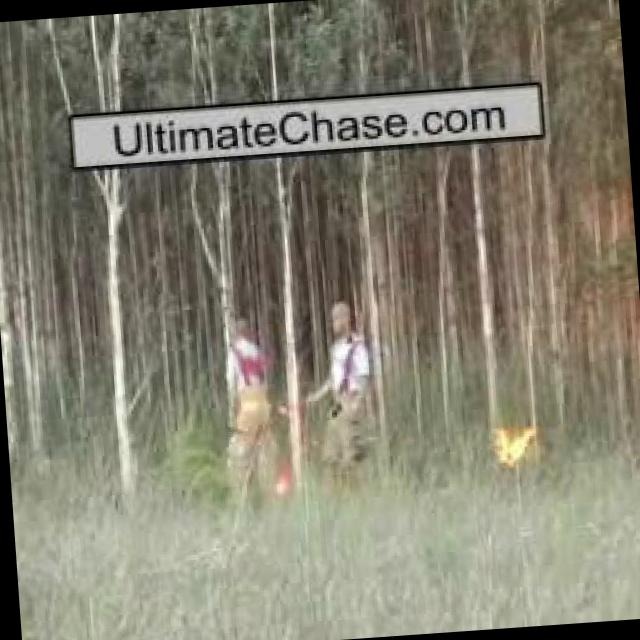Fire: (491, 420, 542, 469)
